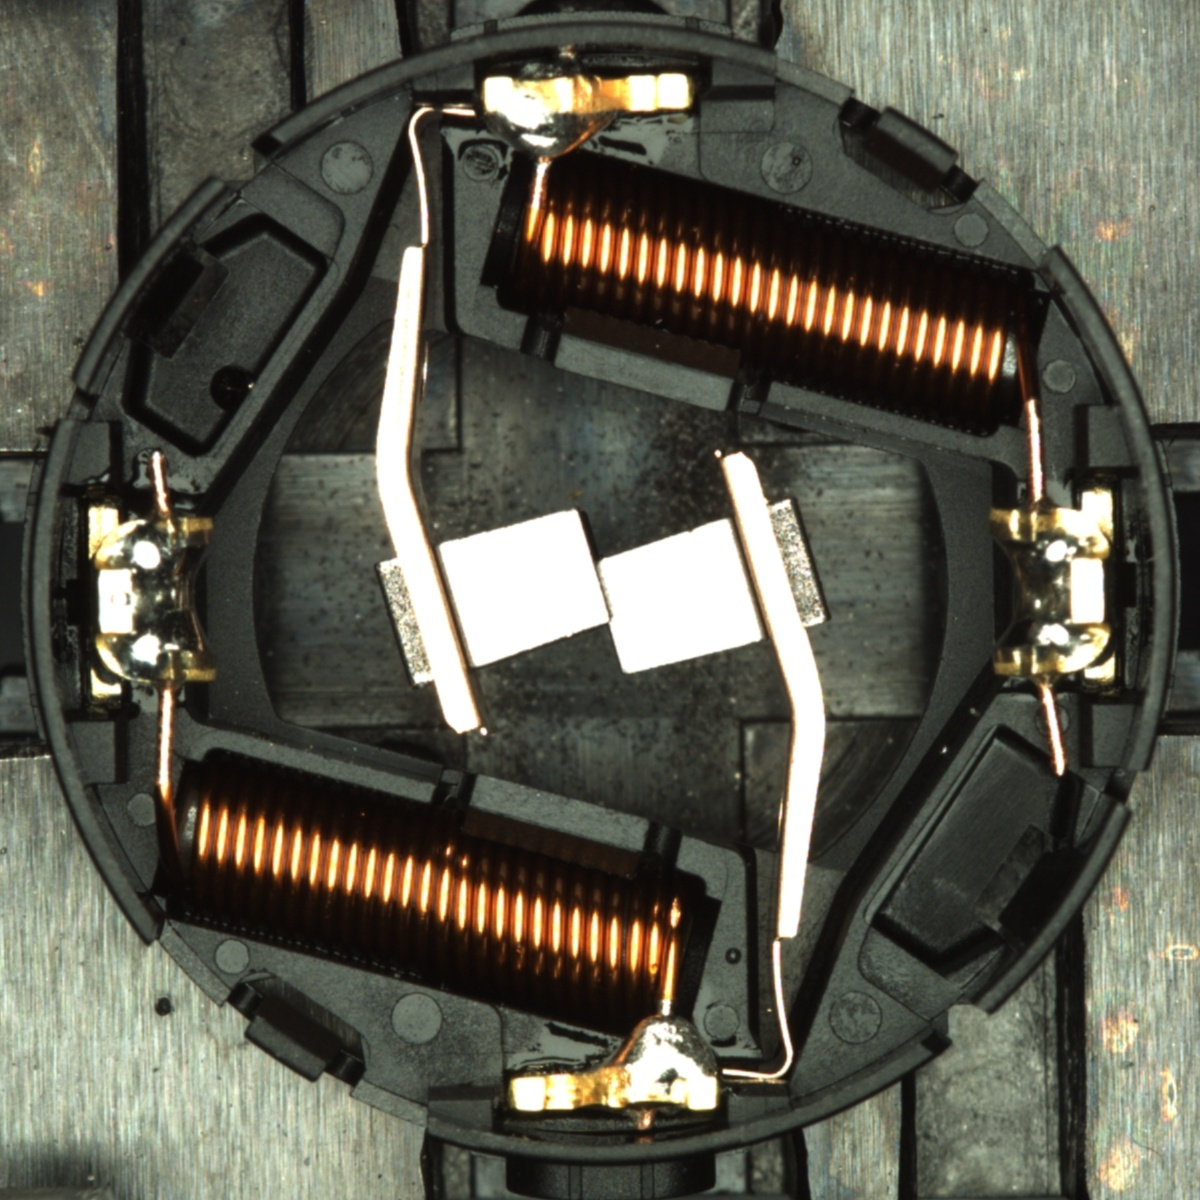1: (713, 929, 943, 1153), (255, 31, 484, 255)
2: (713, 31, 943, 255), (255, 929, 484, 1153)
3: (943, 703, 1171, 929), (25, 255, 255, 479)
4: (713, 703, 943, 929), (255, 255, 484, 479)
5: (484, 815, 713, 1041), (484, 143, 713, 367)
6: (255, 703, 484, 929), (713, 255, 943, 479)
7: (25, 703, 255, 929), (943, 255, 1171, 479)
cacbon: (396, 499, 801, 684)
chau_dien: (80, 498, 220, 700), (982, 488, 1122, 688)
tay_choi: (508, 1013, 721, 1115), (480, 69, 697, 168)
thanh_de: (952, 788, 1138, 1029), (59, 166, 245, 405)
vun_chi: (208, 364, 254, 412)
